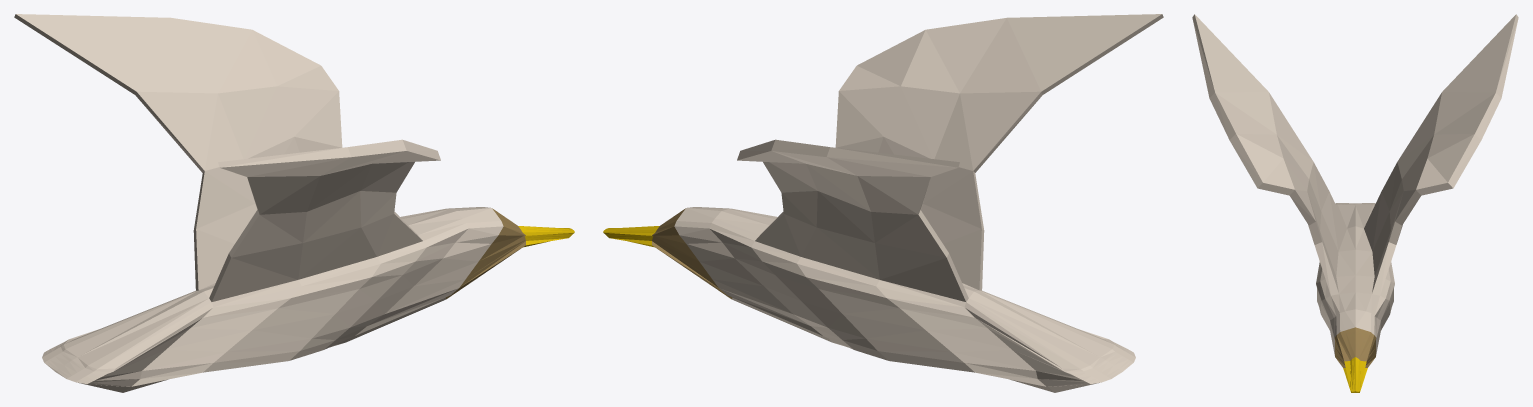
File: Bird_2.fbx
3 renders of one model, left to right at view 1: azimuth 30°, elevation 25°; view 2: azimuth 150°, elevation 25°; view 3: azimuth 270°, elevation 25°, orthographic. The views are drawn at different scales.
Visible parts, largest first — view 1: polySurface216; view 2: polySurface216; view 3: polySurface216.
Boxes of the visible parts, x1,y1,x2,y2 form: polySurface216: (14, 14, 574, 392); polySurface216: (603, 14, 1163, 392); polySurface216: (1192, 14, 1518, 392).
Bounding box in the file's own units: 265 × 149 × 182.
